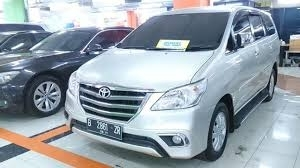plate: (87, 117, 121, 141)
